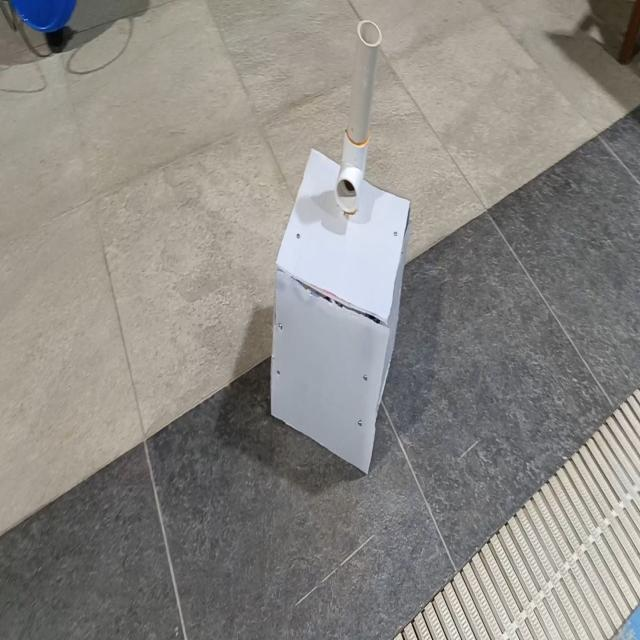Cube: (269, 147, 411, 476)
